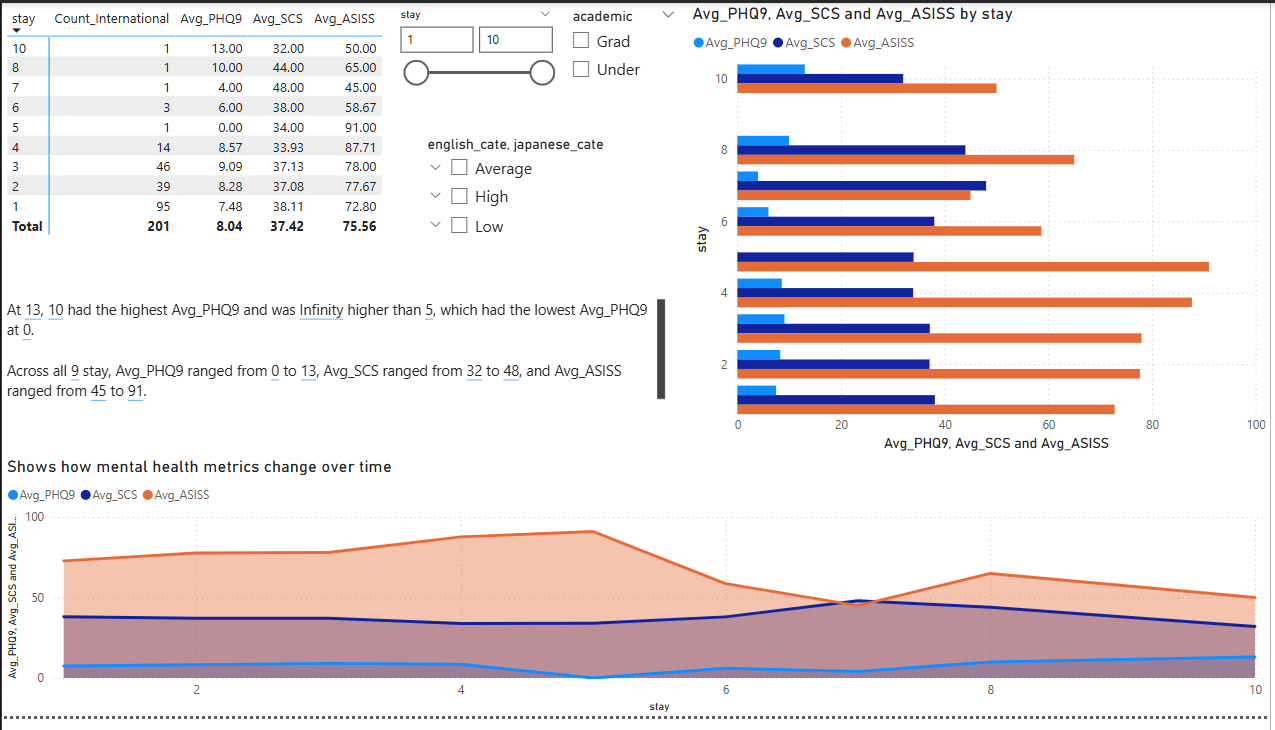

This screenshot's page, from the dashboard's own definition file:
{"tool":"powerbi","page":{"name":"Page 1","canvas":[1280,720],"ordinal":0},"visuals":[{"type":"actionButton","box":[0,0,100,40],"z":0},{"type":"pivotTable","fields":{"Rows":["students.stay"],"Values":["students.Count_International","students.Avg_PHQ9","students.Avg_SCS","students.Avg_ASISS"]},"box":[0,0,397.3,256.5],"z":1000},{"type":"lineChart","title":"Shows how mental health metrics change over time","fields":{"Category":["students.stay"],"Y":["students.Avg_PHQ9","students.Avg_SCS","students.Avg_ASISS"]},"box":[0,456.7,1279.5,262.8],"z":2000},{"type":"clusteredBarChart","fields":{"Category":["students.stay"],"Y":["students.Avg_PHQ9","students.Avg_SCS","students.Avg_ASISS"]},"box":[691.4,0,588.1,456.7],"z":3000},{"type":"slicer","fields":{"Values":["students.stay"]},"box":[389.5,0,176.8,117.3],"z":4000},{"type":"slicer","fields":{"Values":["students.academic"]},"box":[563.1,0,128.3,103.2],"z":5000},{"type":"slicer","fields":{"Values":["students.english_cate","students.japanese_cate"]},"box":[416.1,128.3,258.1,128.3],"z":6000},{"type":"textbox","box":[0,294.1,674.2,129.8],"z":7000}]}

Visuals, with their boxes in screenshot pixels (x1, y1, x2, y2), scaled from the page's 1280x720 canvas onto the 1275x730 screenshot:
actionButton: rect(0, 0, 100, 41)
pivotTable - students.stay x students.Count_International: rect(0, 0, 396, 260)
"Shows how mental health metrics change over time" lineChart: rect(0, 463, 1274, 729)
clusteredBarChart - students.stay x students.Avg_PHQ9: rect(689, 0, 1274, 463)
slicer - students.stay: rect(388, 0, 564, 119)
slicer - students.academic: rect(561, 0, 689, 105)
slicer - students.english_cate x students.japanese_cate: rect(414, 130, 672, 260)
textbox: rect(0, 298, 672, 430)
